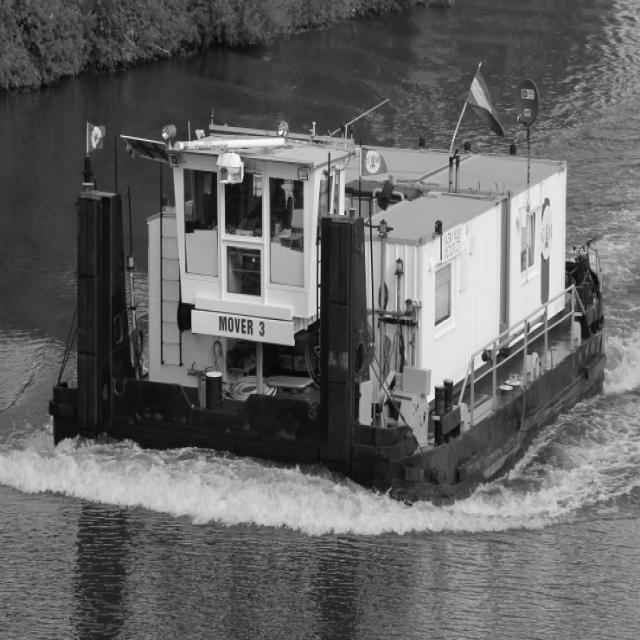tugboat: (42, 104, 613, 521)
